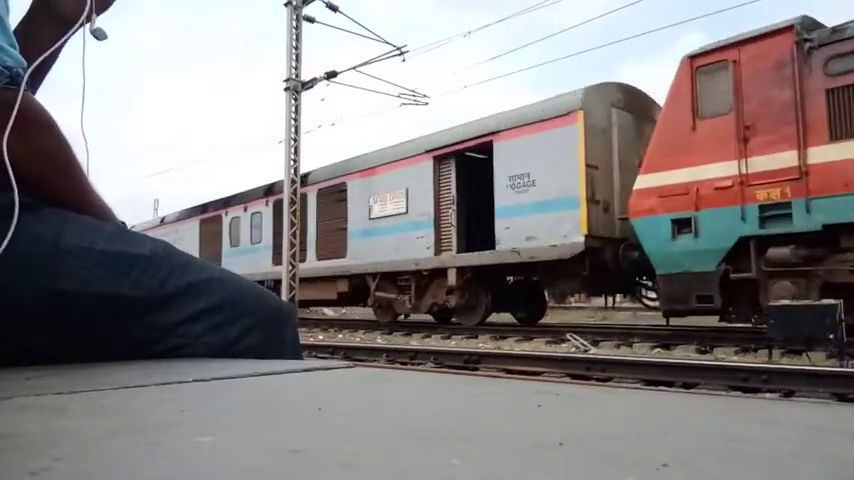Car Type: (500, 169, 545, 200)
